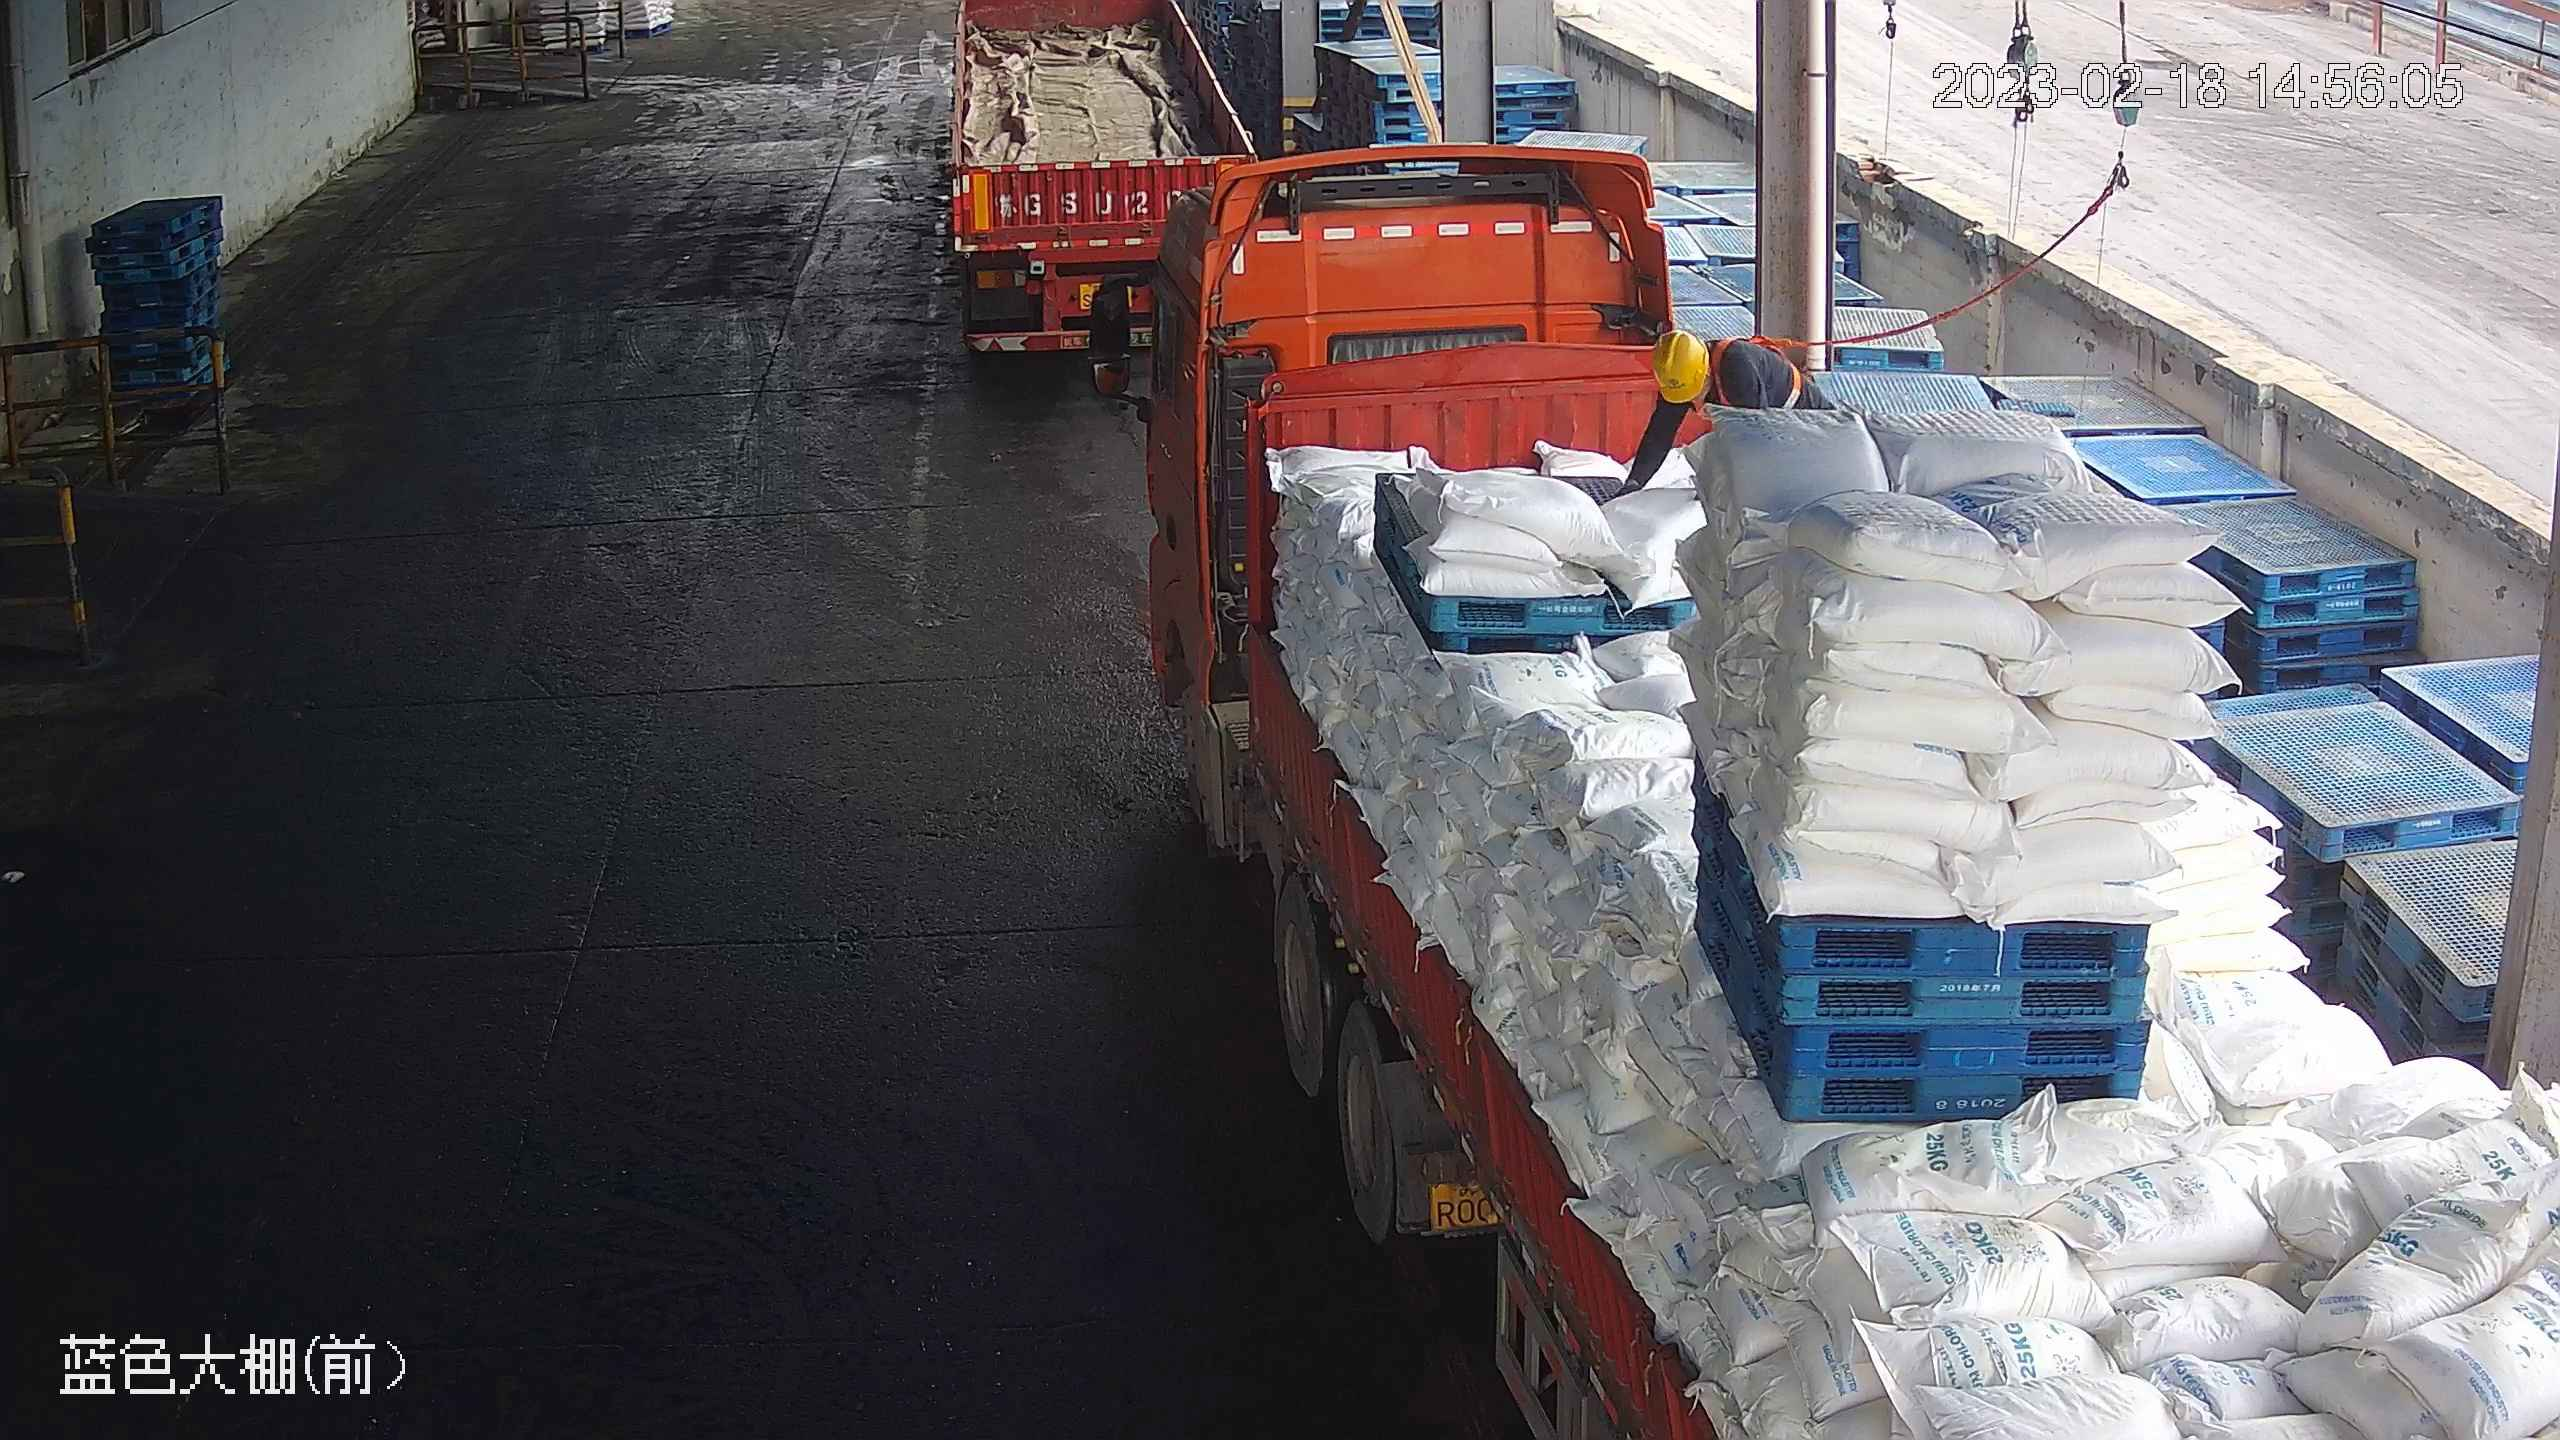belt: (1717, 326, 1799, 406)
head: (1650, 323, 1768, 410)
helmet: (1647, 327, 1708, 406)
truck: (1098, 163, 2559, 1440), (937, 1, 1292, 405)
